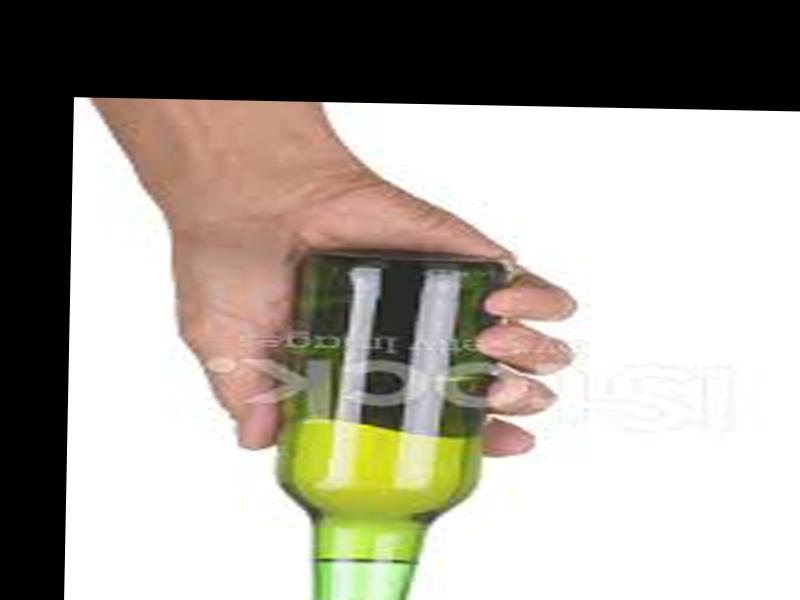Beer: (268, 250, 494, 600)
